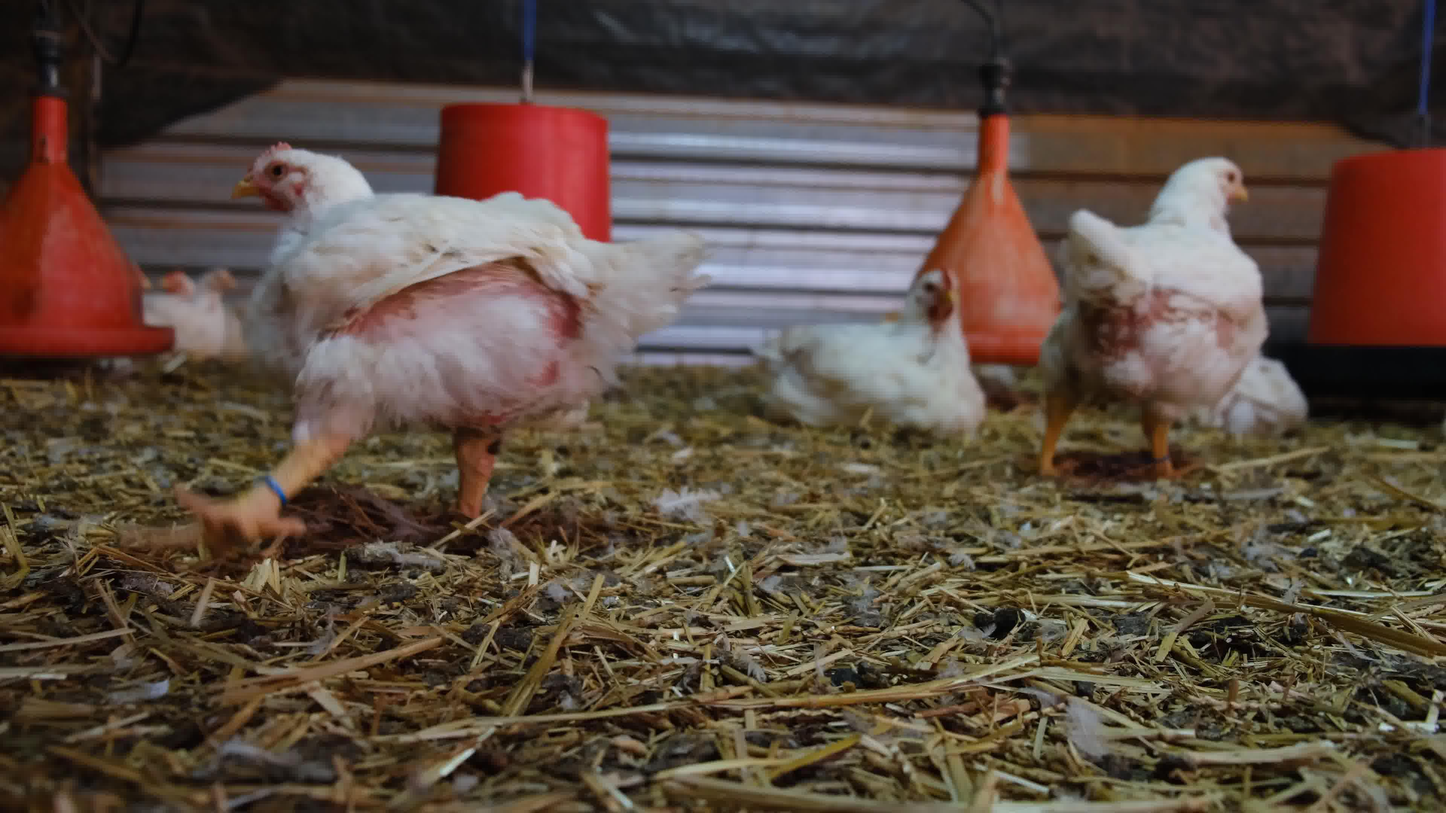AbNormal: (757, 266, 982, 432), (1182, 351, 1311, 437)
Normal: (170, 144, 710, 574), (1034, 153, 1269, 482), (128, 264, 236, 374), (161, 268, 275, 362)
